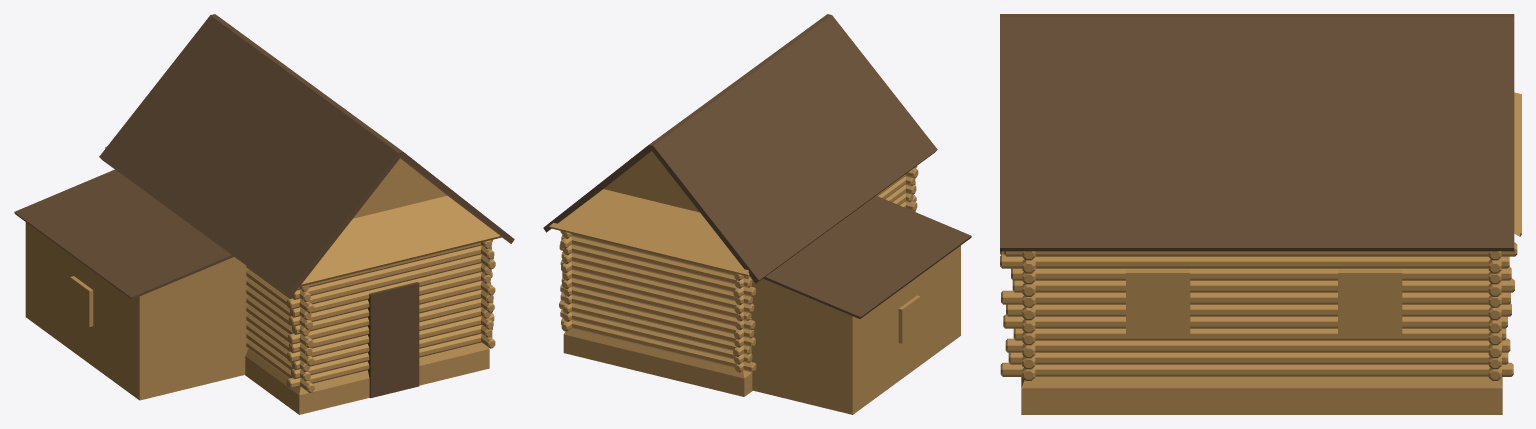
File: smallHouse2.fbx
3 renders of one model, left to right at view 1: azimuth 30°, elevation 25°; view 2: azimuth 150°, elevation 25°; view 3: azimuth 270°, elevation 25°, orthographic. The views are drawn at different scales.
Parts seen in each view (by area): view 1: Object; view 2: Object; view 3: Object.
Boxes of the visible parts, <box> form: Object: <box>14,14,514,414</box>; Object: <box>543,14,971,414</box>; Object: <box>1000,14,1521,414</box>.
Size of the model in its own units: 5388 by 3906 by 5513.
